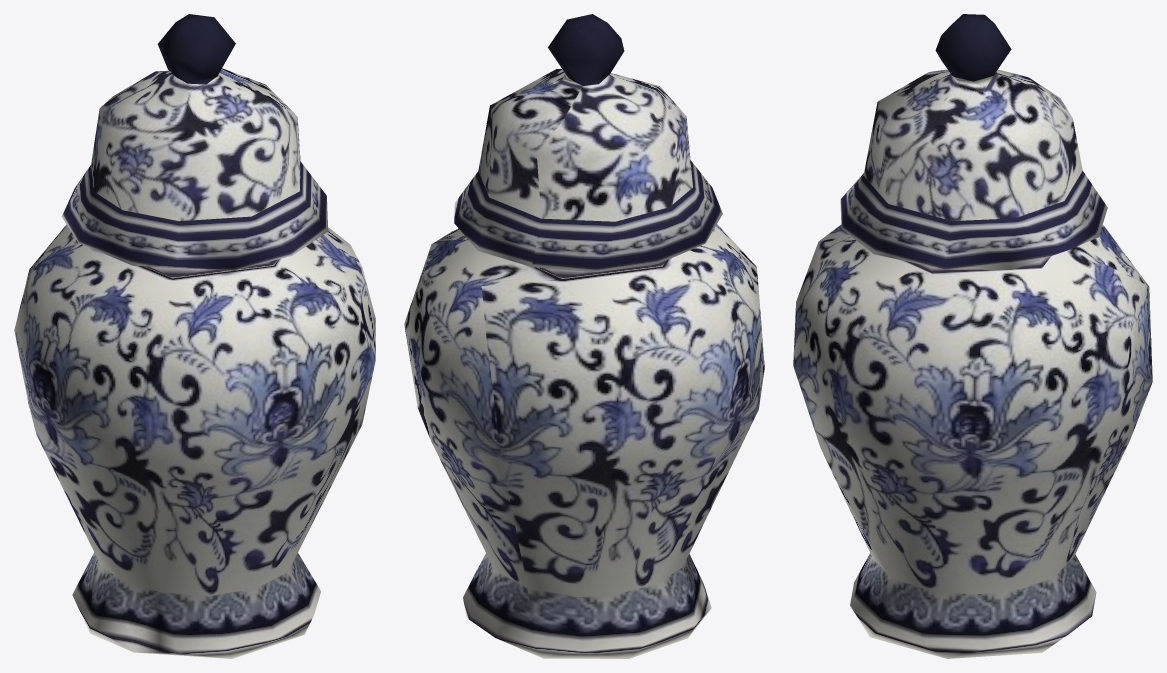
The model's file is Jar.fbx.
3 renders of one model, left to right at view 1: azimuth 30°, elevation 25°; view 2: azimuth 150°, elevation 25°; view 3: azimuth 270°, elevation 25°, orthographic.
Parts seen in each view (by area): view 1: Jar; view 2: Jar; view 3: Jar.
Boxes of the visible parts, x1,y1,x2,y2 form: Jar: (14, 14, 375, 658); Jar: (404, 14, 764, 658); Jar: (793, 14, 1152, 658).
Size of the model in its own units: 20.41 by 36.77 by 20.16.
1 material, 1 textured.
